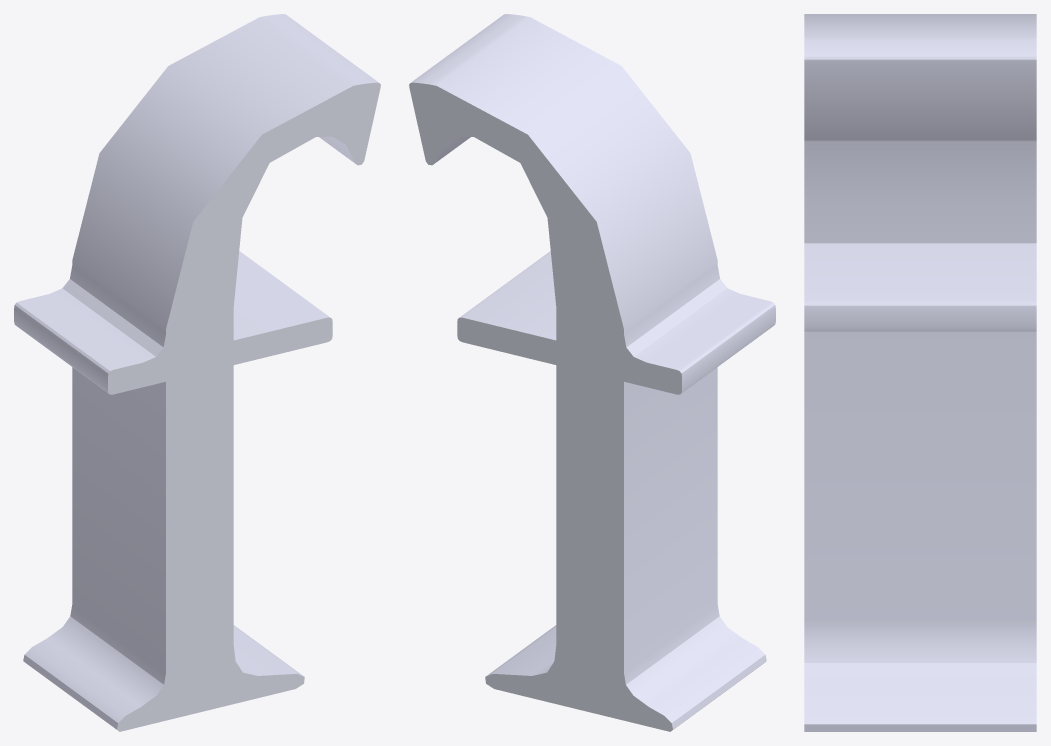
The model's file is F_Soul_Grey.glb.
3 renders of one model, left to right at view 1: azimuth 30°, elevation 25°; view 2: azimuth 150°, elevation 25°; view 3: azimuth 270°, elevation 25°, orthographic. The views are drawn at different scales.
Visible parts, largest first — view 1: f_Soul_Grey; view 2: f_Soul_Grey; view 3: f_Soul_Grey.
Part boxes in pixels (bbox=[...]): f_Soul_Grey: bbox=[14, 14, 380, 731]; f_Soul_Grey: bbox=[409, 14, 775, 731]; f_Soul_Grey: bbox=[804, 14, 1036, 731].
Size of what is drawn, in the model's own units: 0.0756 by 0.1559 by 0.045.
Materials: 2 (2 with a texture image).
